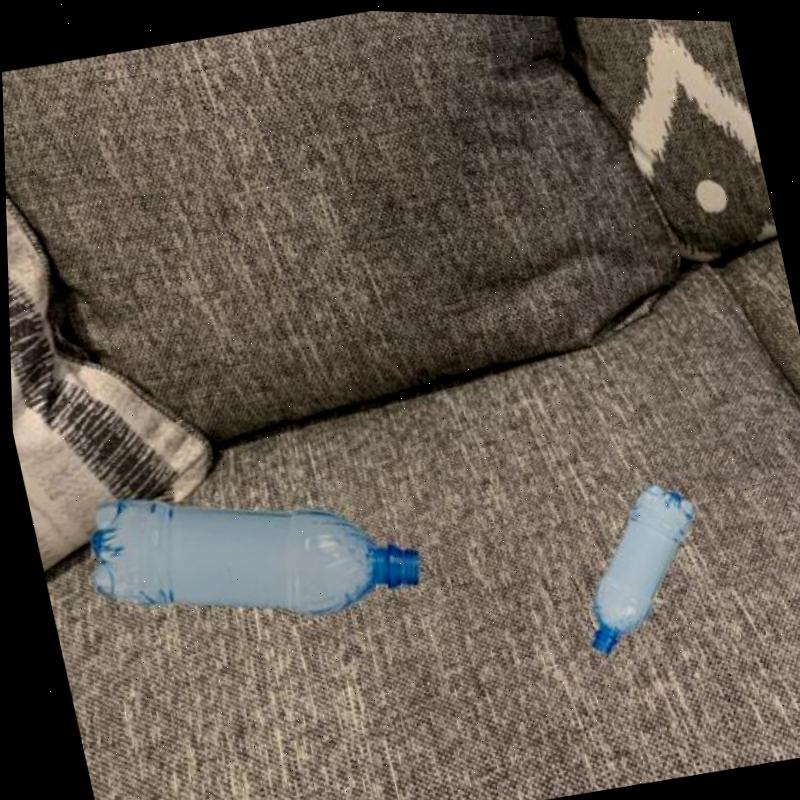botella: (67, 440, 425, 652), (555, 469, 718, 655)
